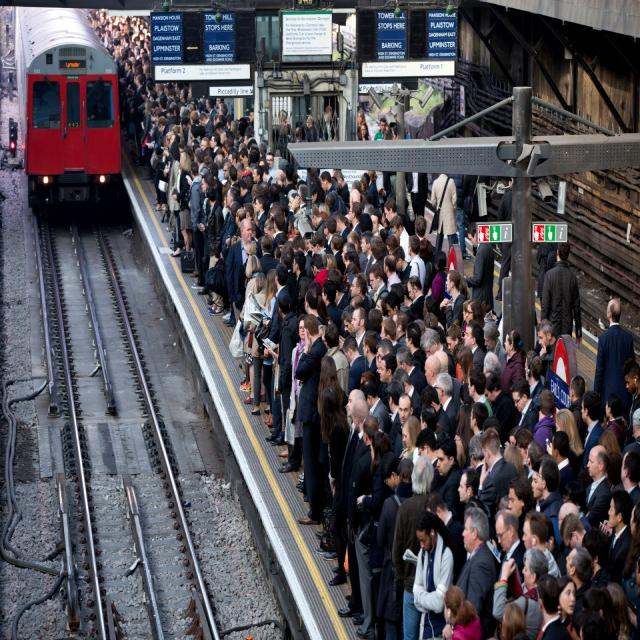body: (197, 150, 638, 405), (294, 404, 638, 636), (91, 13, 445, 150), (391, 454, 436, 640), (370, 456, 415, 640), (342, 413, 381, 618), (134, 150, 197, 271), (355, 428, 392, 628), (337, 396, 370, 619), (294, 313, 328, 529), (319, 384, 352, 589), (337, 387, 366, 607), (455, 504, 500, 640), (592, 295, 636, 423), (412, 510, 454, 640), (539, 238, 584, 351), (263, 262, 292, 435), (476, 426, 519, 542), (229, 253, 264, 394), (225, 217, 264, 327), (196, 184, 227, 316), (274, 292, 299, 447), (285, 313, 308, 473), (242, 271, 267, 406), (493, 506, 528, 600), (463, 221, 496, 314), (434, 434, 466, 527), (536, 574, 580, 639), (521, 511, 562, 580), (187, 159, 206, 291), (429, 172, 460, 251), (170, 150, 194, 252), (228, 276, 257, 359), (440, 585, 482, 640), (585, 442, 612, 527), (198, 171, 215, 296), (316, 353, 348, 417), (536, 215, 558, 307), (498, 326, 527, 394), (509, 375, 541, 436), (457, 466, 492, 521), (439, 268, 468, 330), (566, 373, 589, 450), (550, 429, 577, 489), (167, 145, 181, 257), (405, 171, 429, 217), (501, 601, 527, 640), (350, 305, 369, 357), (373, 117, 388, 141), (357, 108, 369, 136), (357, 123, 370, 141)
